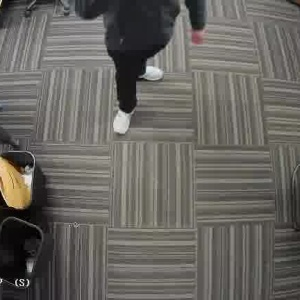person: (86, 0, 198, 138)
